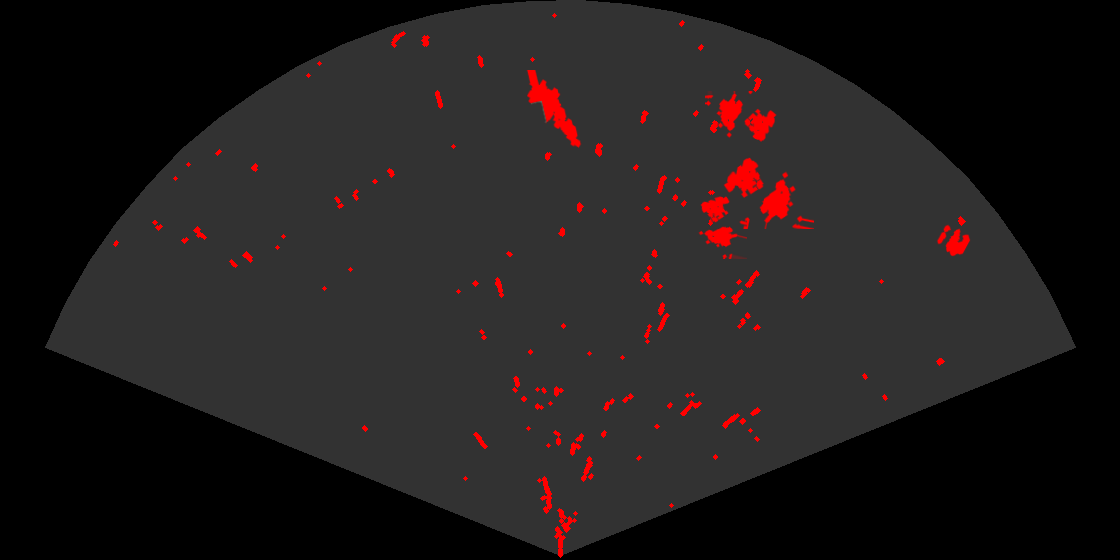ball: (935, 223, 972, 258)
cage: (722, 156, 814, 229), (705, 91, 778, 143), (697, 195, 747, 259)
frogman: (525, 70, 583, 149)
